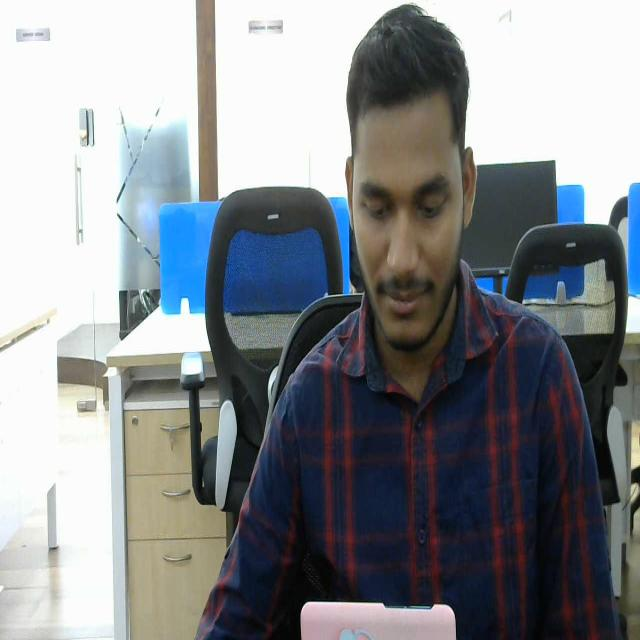phone: (300, 598, 458, 640)
